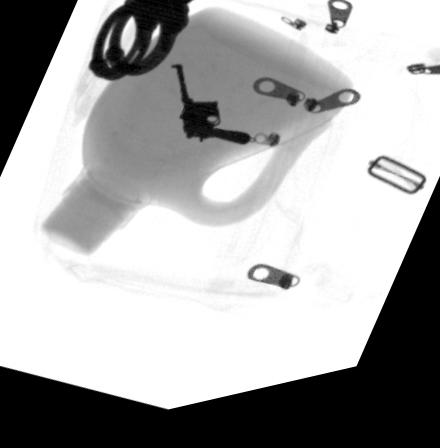Gun: (169, 71, 250, 155)
HandCuffs: (84, 0, 200, 86)
